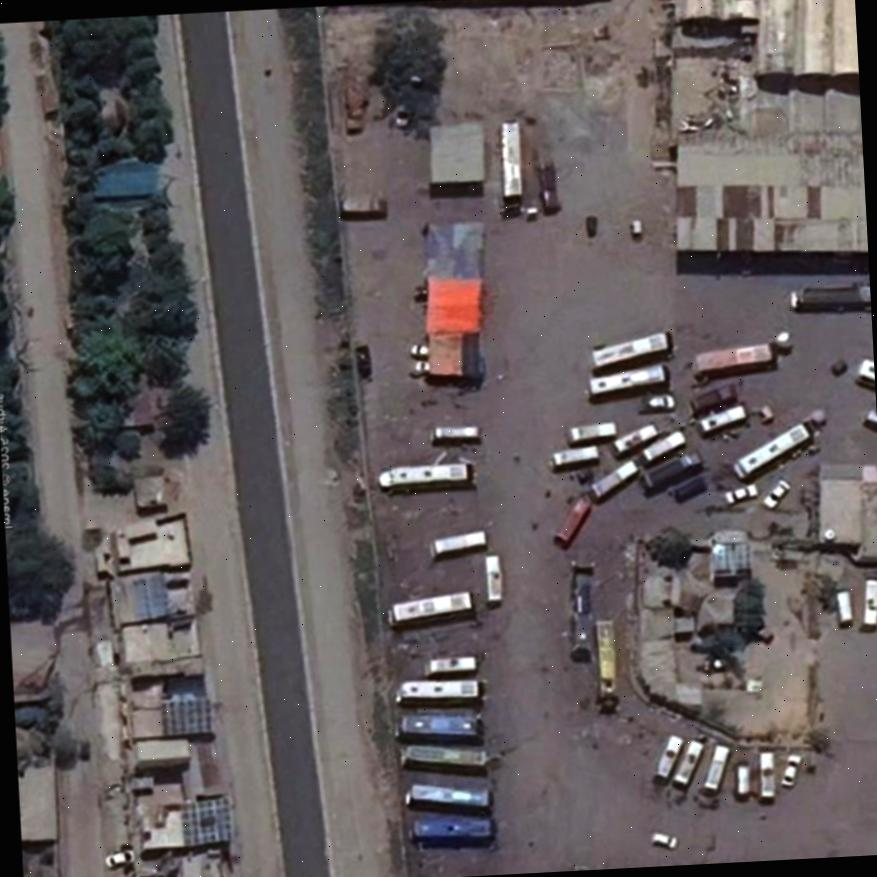Solarpanel: (181, 796, 231, 846), (161, 699, 210, 735)
